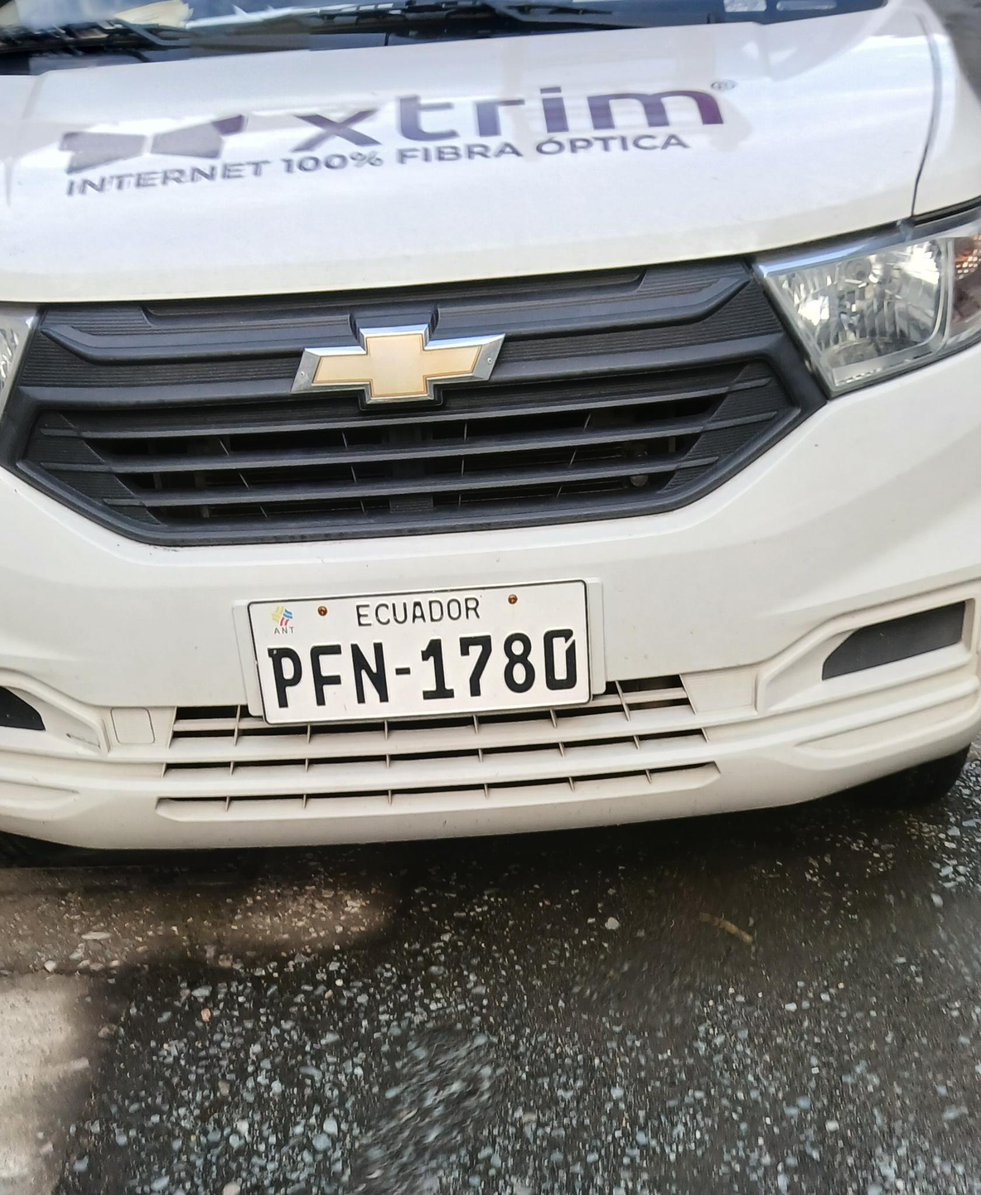license_plate: (239, 578, 596, 720)
